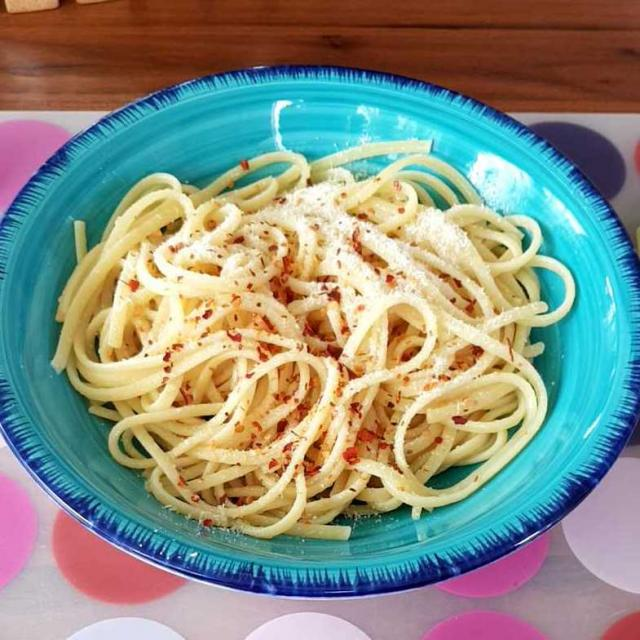parmesan: (179, 176, 522, 469)
pasta-spaghetti: (62, 159, 549, 538)
